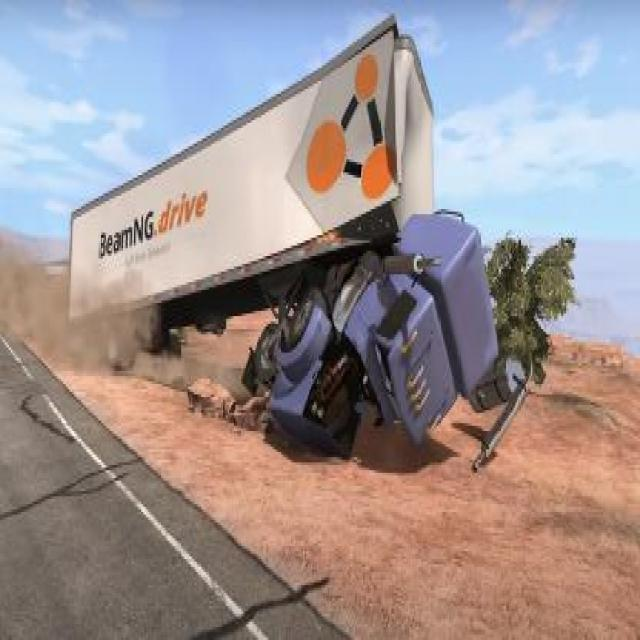accident: (61, 5, 534, 473)
